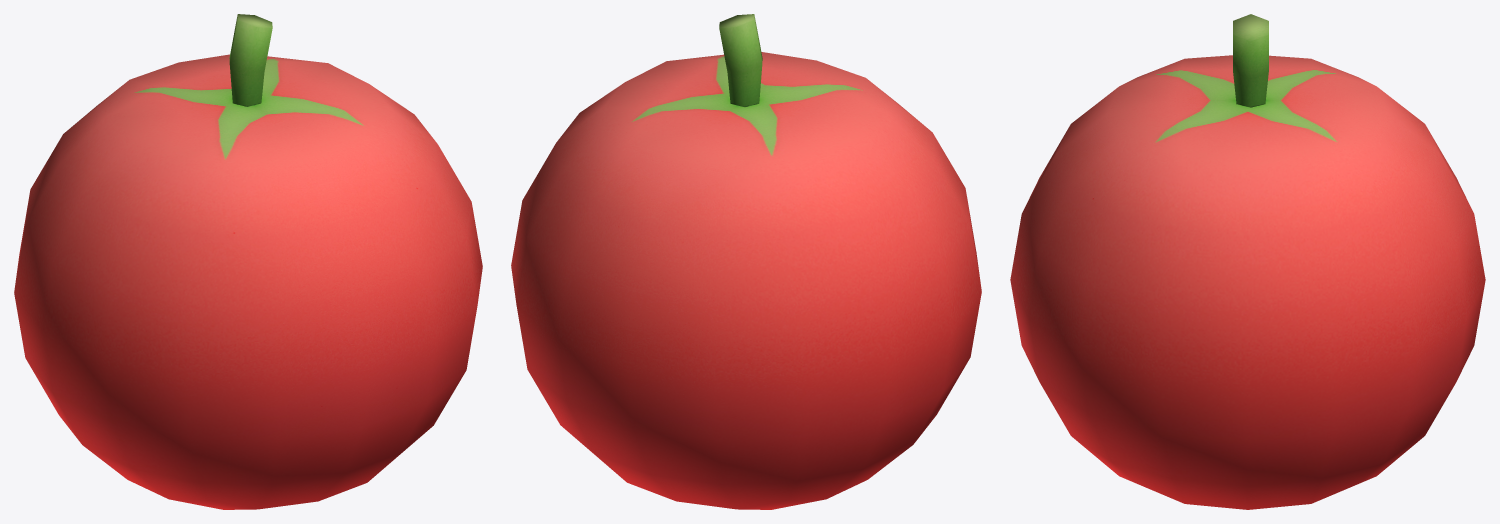
File: tomato.fbx
3 views of the same model, side by side, from view 1: azimuth 30°, elevation 25°; view 2: azimuth 150°, elevation 25°; view 3: azimuth 270°, elevation 25° (orthographic).
Parts seen in each view (by area): view 1: TomatO; view 2: TomatO; view 3: TomatO.
Boxes of the visible parts, box(x1,y1,x2,y2) form: TomatO: box(14, 14, 482, 509); TomatO: box(511, 14, 981, 509); TomatO: box(1010, 14, 1485, 509).
Bounding box in the file's own units: 5.48 × 5.94 × 5.48.
Materials: 1 (1 with a texture image).
